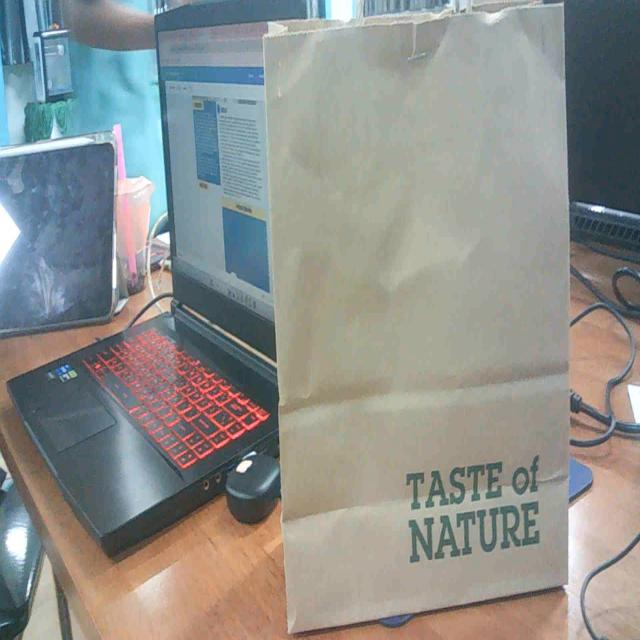bag: (247, 11, 582, 626)
